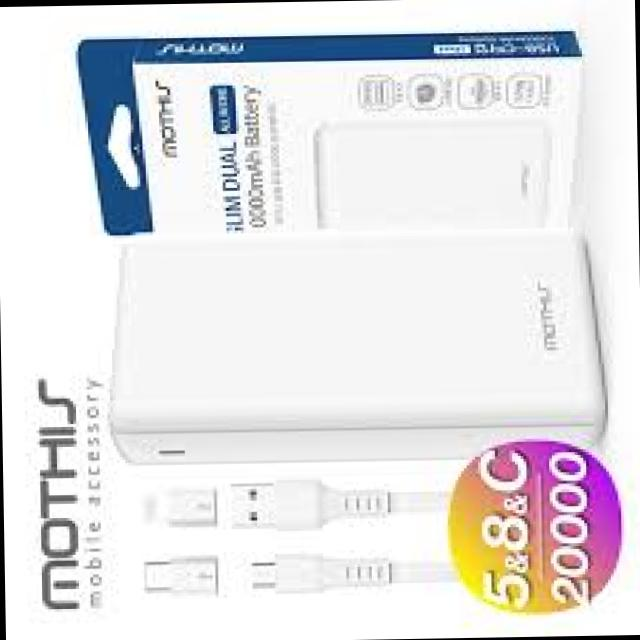power_bank: (106, 226, 600, 469), (308, 114, 557, 240)
